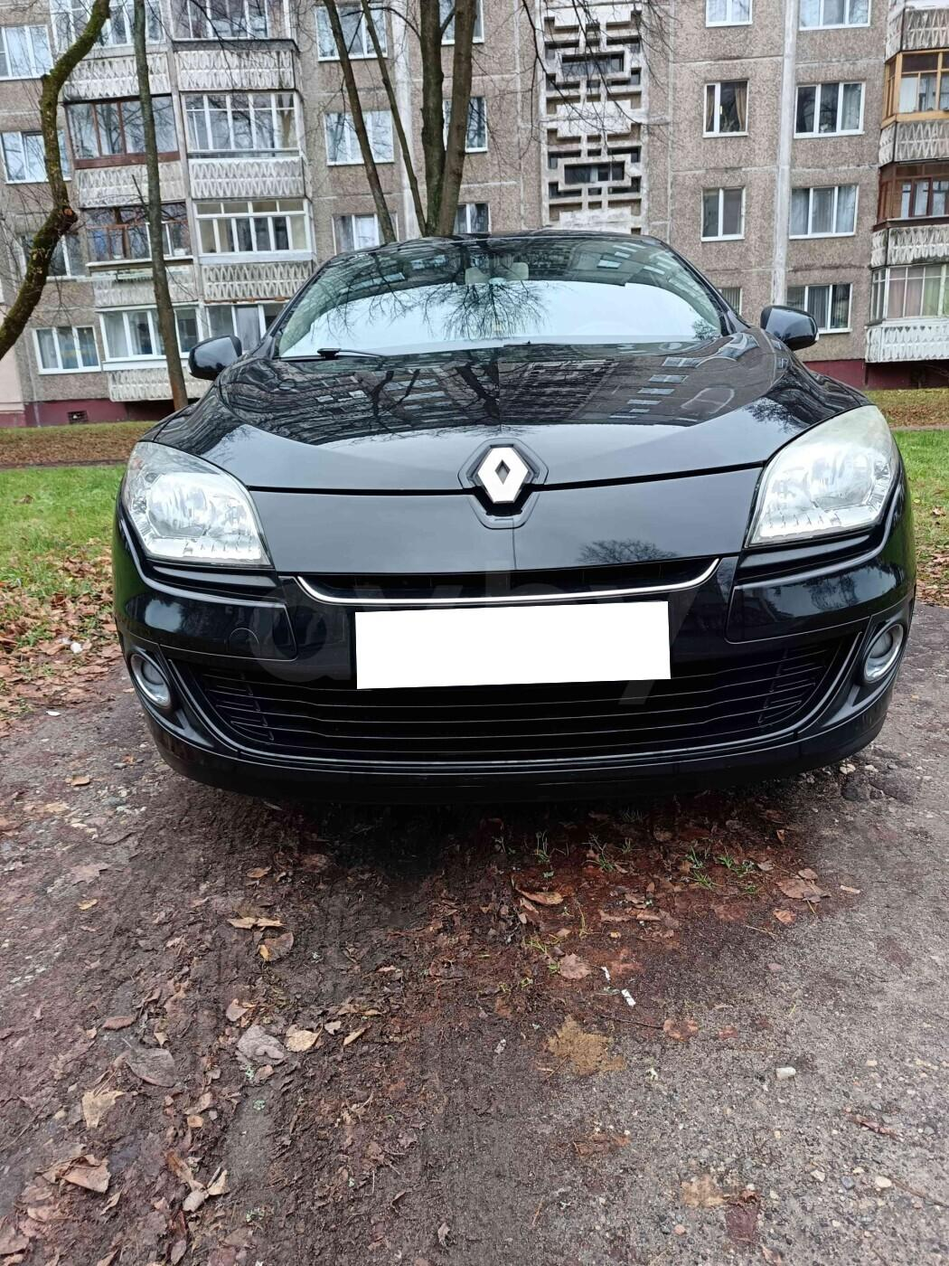Megane_2008-2014: (105, 224, 918, 803)
